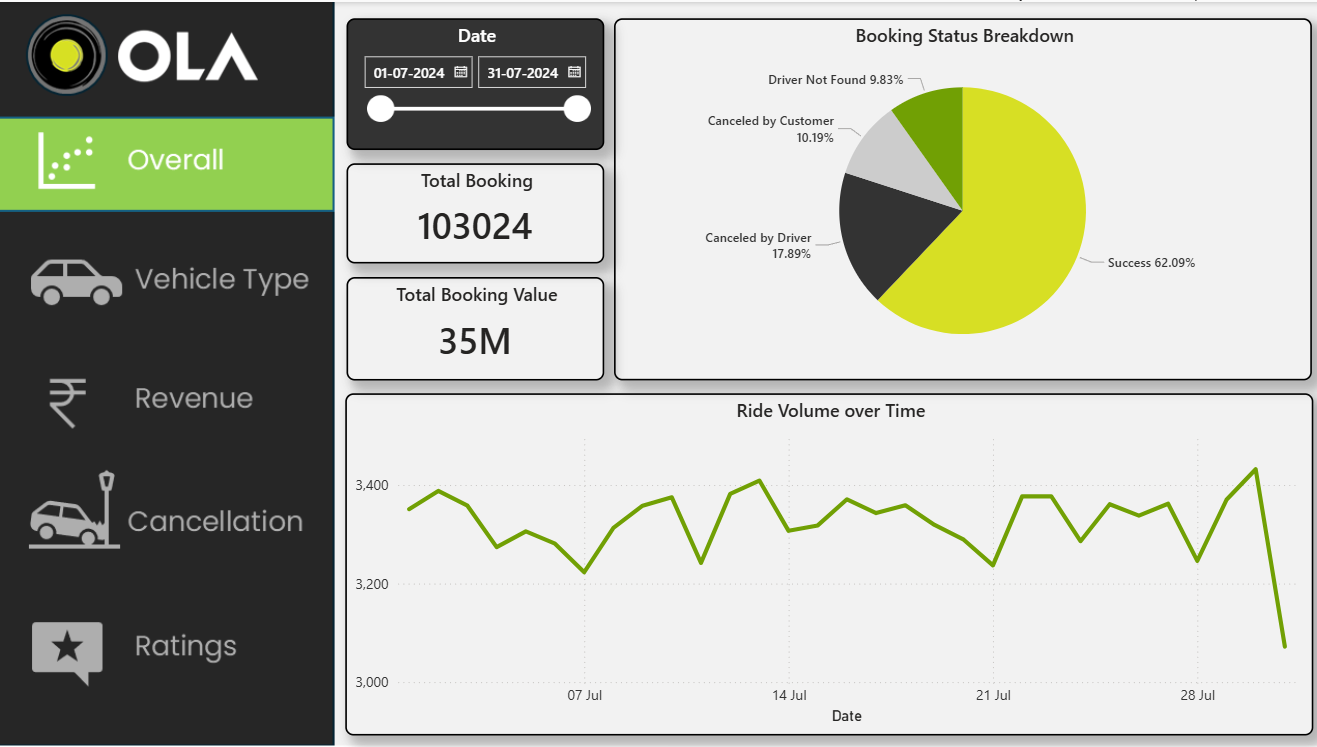

Layout of this report page (visuals, bound fields, positions):
{"tool":"powerbi","page":{"name":"Overall","canvas":[1280,720],"ordinal":0},"visuals":[{"type":"actionButton","box":[1.2,219.6,322.1,92.9],"z":0},{"type":"actionButton","box":[0,340.2,322.1,92.9],"z":1000},{"type":"actionButton","box":[1.2,447.6,322.1,92.9],"z":2000},{"type":"actionButton","box":[1.2,575.5,322.1,92.9],"z":3000},{"type":"actionButton","box":[0,109.8,322.1,92.9],"z":4000},{"type":"lineChart","title":"Ride Volume over Time","fields":{"Y":["CountNonNull(July.Booking_ID)"],"Category":["July.Date"]},"box":[334.3,377.1,934.3,330],"z":5000},{"type":"pieChart","title":"Booking Status Breakdown","fields":{"Y":["CountNonNull(July.Booking_Status)"],"Category":["July.Booking_Status"]},"box":[594.2,15.1,673.8,349.9],"z":6000},{"type":"slicer","title":"Date","fields":{"Values":["July.Date"]},"box":[335.7,15.7,248.6,127.1],"z":7000},{"type":"card","title":"Total Booking","fields":{"Values":["Count(July.Booking_ID)"]},"box":[335.7,155.7,248.6,97.1],"z":8000},{"type":"card","title":"Total Booking Value","fields":{"Values":["Sum(July.Booking_Value)"]},"box":[335.7,265.7,248.6,100],"z":9000}]}

Visuals, with their boxes in screenshot pixels (x1, y1, x2, y2), scaled from the page's 1280x720 canvas onto the 1317x747 screenshot:
actionButton: detection(1, 228, 333, 324)
actionButton: detection(0, 353, 331, 449)
actionButton: detection(1, 464, 333, 561)
actionButton: detection(1, 597, 333, 693)
actionButton: detection(0, 114, 331, 210)
"Ride Volume over Time" lineChart: detection(344, 391, 1305, 734)
"Booking Status Breakdown" pieChart: detection(611, 16, 1305, 379)
"Date" slicer: detection(345, 16, 601, 148)
"Total Booking" card: detection(345, 162, 601, 262)
"Total Booking Value" card: detection(345, 276, 601, 379)
